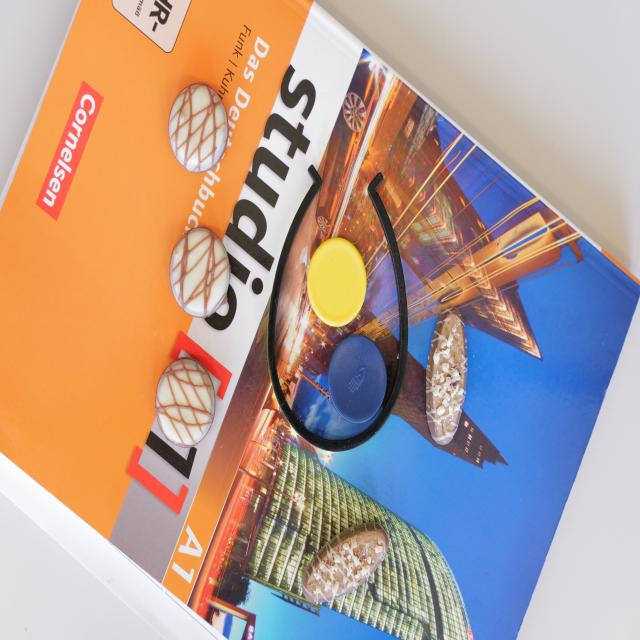Amandina: (303, 523, 388, 602), (426, 306, 467, 446)
Creme_brulee: (154, 355, 215, 447), (169, 82, 229, 174), (172, 227, 232, 315)
